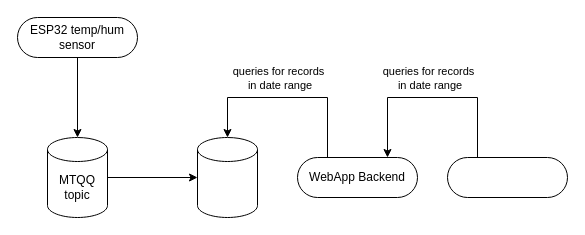
The diagram is 585 pixels wide and 235 high, and some of its shapes have lost their labels. The centre of each missing label's shape, as x and y in pixels:
"Dynamo table" goes at [227,177].
"WebApp Frontend" goes at [507,177].
